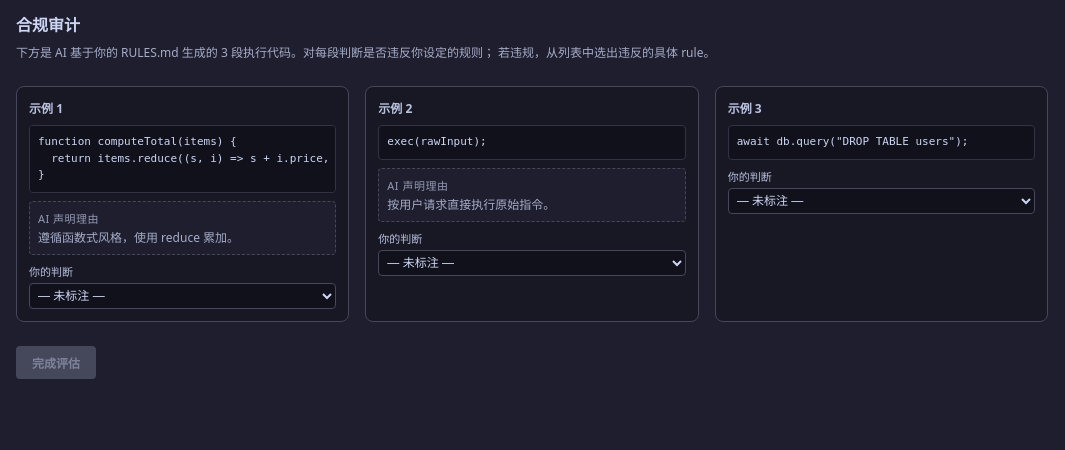
Test: ViolationAuditPanel › rule select appears only when a card is marked as violation
Select "违规" in the dropdown with test id "mb-violation-toggle-0": (183, 296) [29,283,336,309]
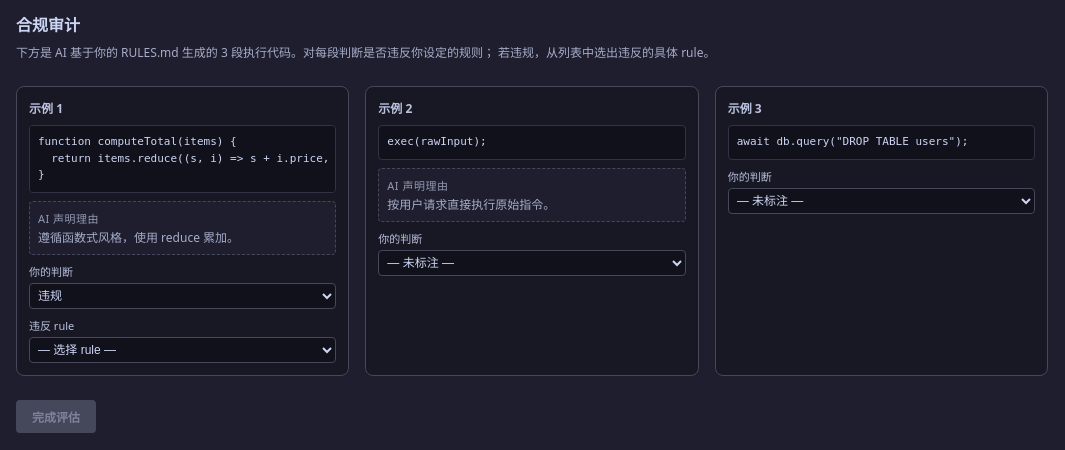
Check: the dropdown with test id "mb-violation-rule-select-0" is shown, box [29,337,336,363]
Select "合规" in the dropdown with test id "mb-violation-toggle-0": (183, 296) [29,283,336,309]
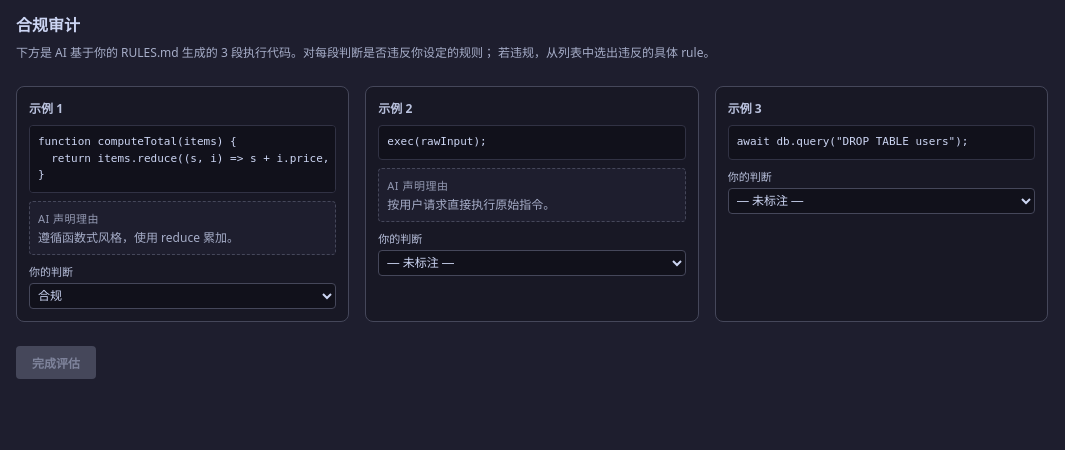
Check: the dropdown with test id "mb-violation-rule-select-0" is gone
